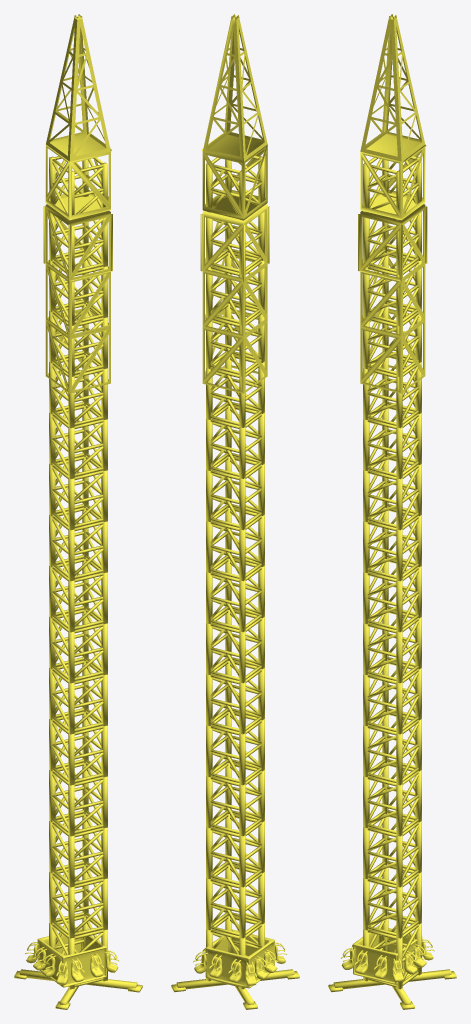
The model's file is DropTower.fbx.
3 views of the same model, side by side, from view 1: azimuth 30°, elevation 25°; view 2: azimuth 150°, elevation 25°; view 3: azimuth 330°, elevation 25° (orthographic).
Parts seen in each view (by area): view 1: DropTower, Cube.002; view 2: DropTower, Cube.002; view 3: DropTower, Cube.002.
Part boxes in pixels (x1,y1,x2,y2): DropTower: (14, 14, 142, 1009); Cube.002: (25, 928, 118, 987); DropTower: (171, 14, 299, 1009); Cube.002: (193, 929, 286, 988); DropTower: (328, 14, 456, 1009); Cube.002: (341, 925, 434, 984).
Size of the model in its own units: 2471 by 26211 by 2471.
